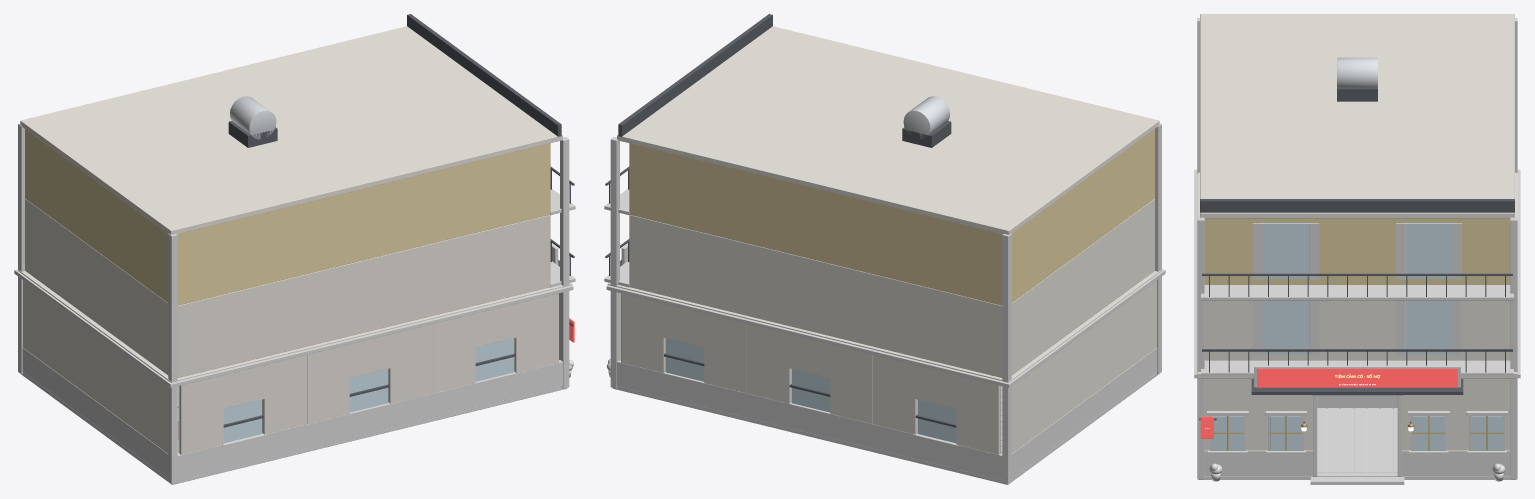
The model's file is SM_House_AnhBay.fbx.
3 views of the same model, side by side, from view 1: azimuth 30°, elevation 25°; view 2: azimuth 150°, elevation 25°; view 3: azimuth 270°, elevation 25° (orthographic). The views are drawn at different scales.
Visible parts, largest first — view 1: Roof_Slab, F2_RoomBox, F3_RoomBox, Ext_BackUp, Ext_SideL_Low, Ext_BackLow, Ext_CorniceGround, Ext_SideL_PierL_0, Ext_SideL_PierR_1, Ext_SideL_PierR_0, Ext_SideL_PierR_2, Ext_SideL_PierL_1 (+15 smaller); view 2: Roof_Slab, F2_RoomBox, F3_RoomBox, Ext_BackUp, Ext_SideR_Low, Ext_BackLow, Ext_CorniceGround, Ext_SideR_PierL_0, Ext_SideR_PierR_1, Ext_SideR_PierR_2, Ext_SideR_PierR_0, Ext_SideR_PierL_1 (+15 smaller); view 3: Roof_Slab, F3_RoomBox, F2_RoomBox, F3_BalSlab, Roof_ParapetFront, MainSign_Board, Ext_FrontR_Up, Ext_FrontL_Up, F2_BalSlab, F3_WinGlass_0, F3_WinGlass_1, F2_WinGlass_0 (+38 smaller).
Boxes of the visible parts, x1,y1,x2,y2 form: Roof_Slab: (20, 26, 562, 234); F2_RoomBox: (25, 198, 550, 377); F3_RoomBox: (25, 129, 550, 305); Ext_BackUp: (23, 280, 168, 453); Ext_SideL_Low: (177, 360, 562, 479); Ext_BackLow: (22, 348, 168, 477); Ext_CorniceGround: (14, 269, 573, 387); Ext_SideL_PierL_0: (179, 375, 223, 454); Ext_SideL_PierR_1: (388, 324, 432, 403); Ext_SideL_PierR_0: (262, 355, 306, 434); Ext_SideL_PierR_2: (514, 293, 558, 372); Ext_SideL_PierL_1: (307, 344, 349, 423); Roof_Slab: (617, 26, 1159, 234); F2_RoomBox: (629, 198, 1154, 377); F3_RoomBox: (629, 129, 1154, 305); Ext_BackUp: (1011, 280, 1156, 453); Ext_SideR_Low: (617, 360, 1002, 479); Ext_BackLow: (1011, 348, 1157, 477); Ext_CorniceGround: (606, 269, 1165, 387); Ext_SideR_PierL_0: (956, 375, 1000, 454); Ext_SideR_PierR_1: (747, 324, 791, 403); Ext_SideR_PierR_2: (621, 293, 665, 372); Ext_SideR_PierR_0: (873, 355, 917, 434); Ext_SideR_PierL_1: (830, 344, 872, 423); Roof_Slab: (1200, 14, 1514, 218); F3_RoomBox: (1204, 218, 1510, 284); F2_RoomBox: (1204, 301, 1510, 360); F3_BalSlab: (1201, 285, 1513, 300); Roof_ParapetFront: (1200, 199, 1514, 212); MainSign_Board: (1257, 368, 1457, 387); Ext_FrontR_Up: (1402, 379, 1510, 450); Ext_FrontL_Up: (1204, 379, 1312, 450); F2_BalSlab: (1201, 360, 1513, 376); F3_WinGlass_0: (1262, 223, 1310, 278); F3_WinGlass_1: (1404, 223, 1452, 278); F2_WinGlass_0: (1262, 301, 1309, 354).
Size of the model in its own units: 19.34 by 12.51 by 12.34.
